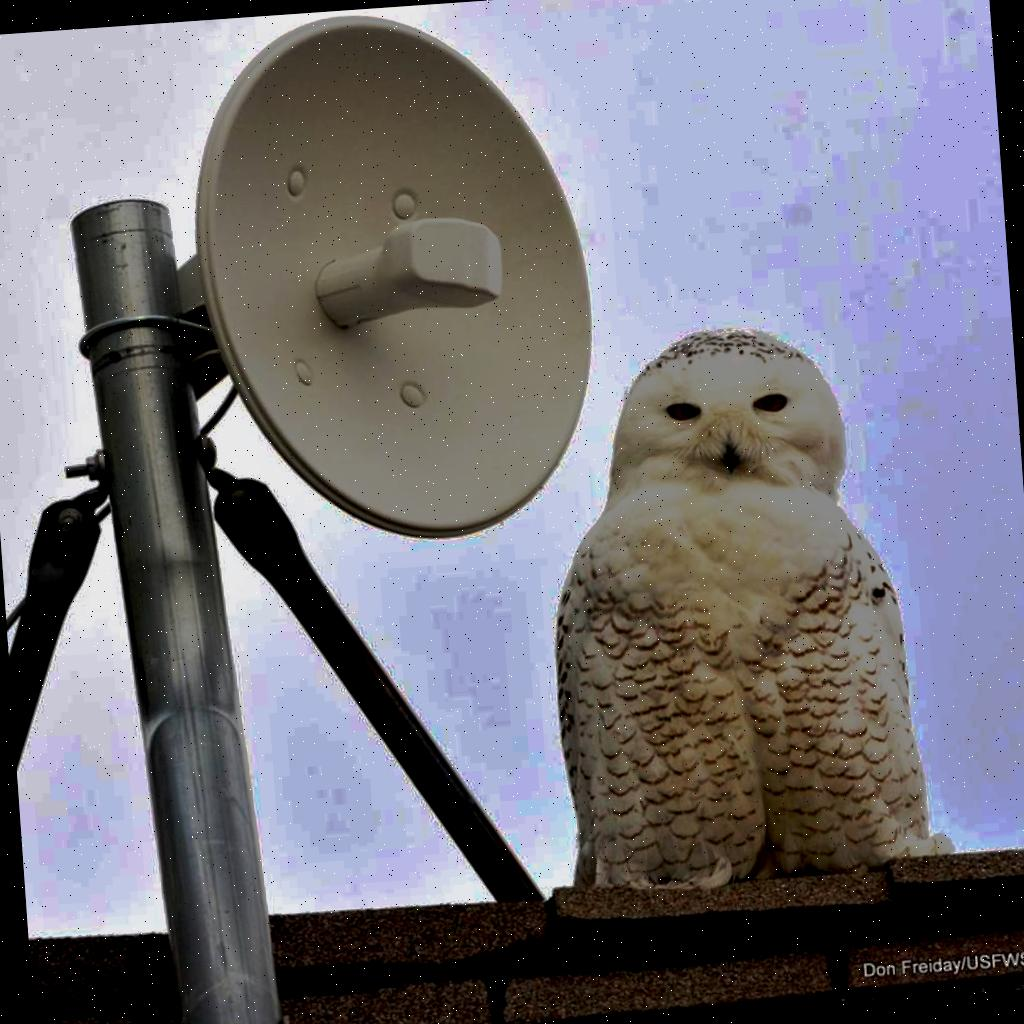Owl: (529, 316, 947, 906)
